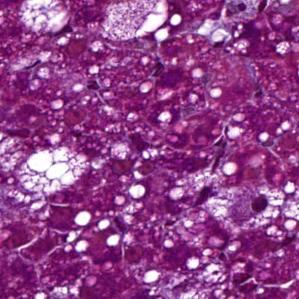ballooning: (16, 145, 89, 198), (94, 5, 175, 43), (20, 3, 69, 35)
